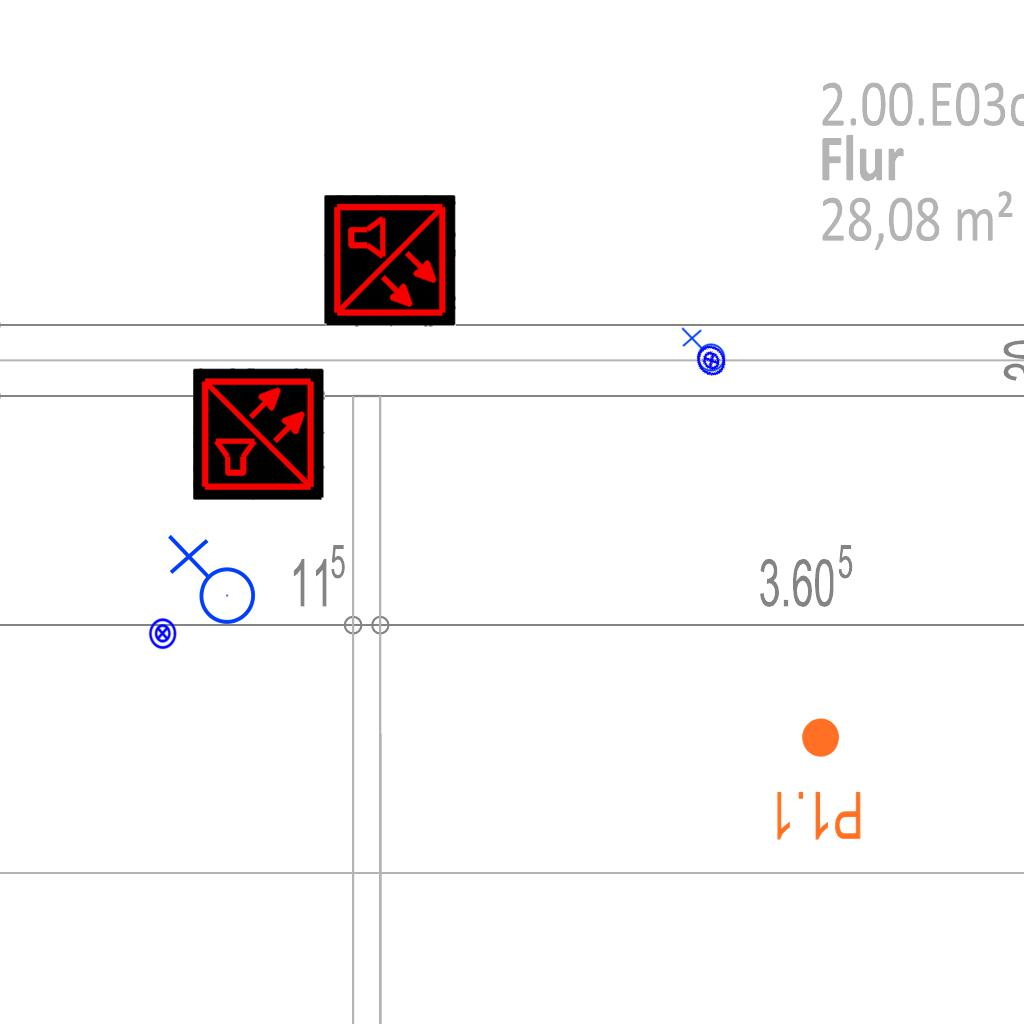Downlight_LED_Einbauleuchten_Flur: (771, 715, 864, 843)
Elektroanschluss_allgemein_230V_Geraeteanschlussdose_230V: (163, 534, 257, 633), (679, 327, 726, 376)
OKW_Multisensormelder_(Kombination_optischer_Rauch-Kahlenmonoxid_Waerme-Melder): (324, 195, 456, 327), (193, 368, 325, 500)
Taster_beleuchtet: (689, 338, 734, 383), (146, 617, 179, 650)
